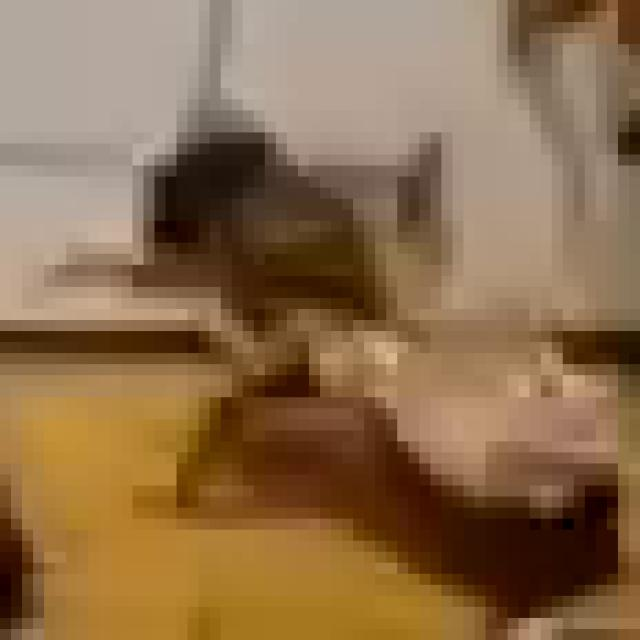honeybee: (126, 55, 622, 583)
